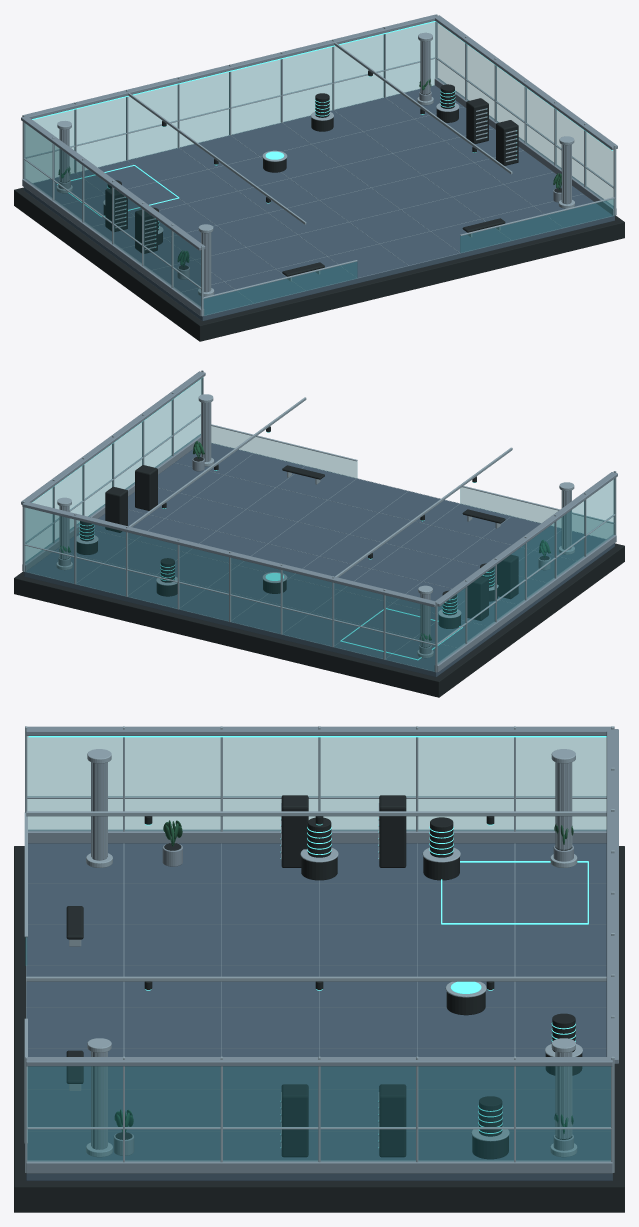
Rendered from world-2.glb.
3 views of the same model, one above another, from view 1: azimuth 30°, elevation 25°; view 2: azimuth 150°, elevation 25°; view 3: azimuth 270°, elevation 25° (orthographic). The views are drawn at different scales.
Parts seen in each view (by area): view 1: World_FloorStone, World_Glass, World_Obsidian, World_ArchitecturalMetal, World_Architecture, World_CoolLight; view 2: World_FloorStone, World_Glass, World_Obsidian, World_ArchitecturalMetal, World_Architecture, World_CoolLight; view 3: World_FloorStone, World_Glass, World_Obsidian, World_Architecture, World_ArchitecturalMetal, World_CoolLight, World_Foliage.
Boxes of the visible parts, bbox=[...] form: World_FloorStone: bbox=[24, 85, 614, 321]; World_Glass: bbox=[24, 22, 613, 315]; World_Obsidian: bbox=[14, 70, 624, 341]; World_ArchitecturalMetal: bbox=[22, 14, 616, 316]; World_Architecture: bbox=[21, 14, 617, 316]; World_CoolLight: bbox=[32, 21, 612, 247]; World_FloorStone: bbox=[24, 443, 614, 677]; World_Glass: bbox=[25, 379, 614, 671]; World_Obsidian: bbox=[14, 426, 624, 697]; World_ArchitecturalMetal: bbox=[22, 370, 616, 672]; World_Architecture: bbox=[21, 371, 617, 672]; World_CoolLight: bbox=[32, 377, 494, 660]; World_FloorStone: bbox=[26, 843, 612, 1180]; World_Glass: bbox=[25, 736, 610, 1161]; World_Obsidian: bbox=[14, 795, 624, 1212]; World_Architecture: bbox=[26, 726, 618, 1173]; World_ArchitecturalMetal: bbox=[24, 726, 614, 1172]; World_CoolLight: bbox=[28, 736, 606, 1147]; World_Foliage: bbox=[114, 820, 573, 1133].
Size of the model in its own units: 33 by 6.8 by 25.
